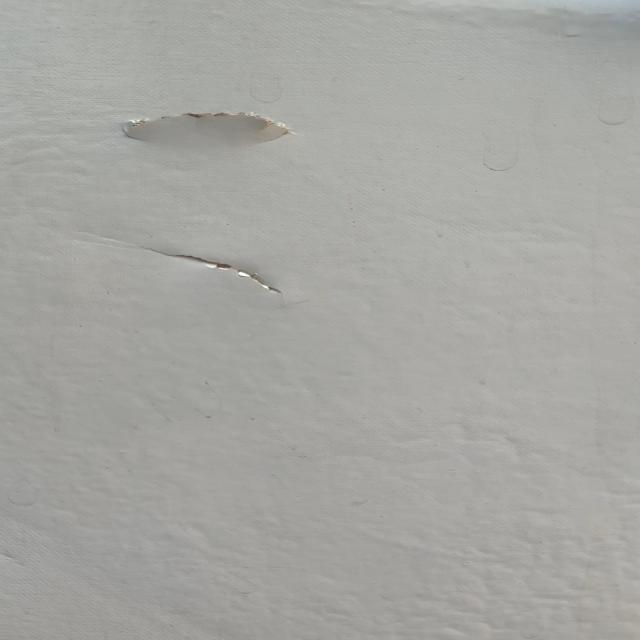Scratches: (141, 233, 316, 312), (97, 100, 327, 157)
